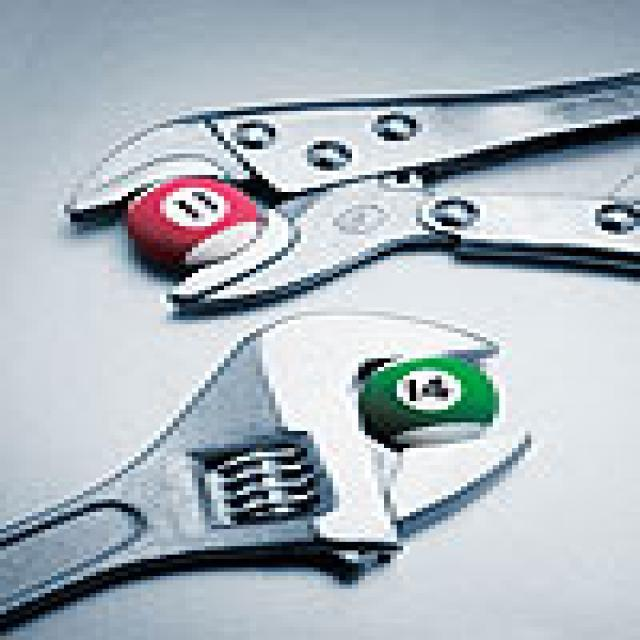wrench: (0, 300, 547, 634), (57, 59, 640, 318)
